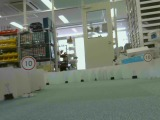speed_10: (20, 56, 36, 71), (143, 52, 153, 62)
